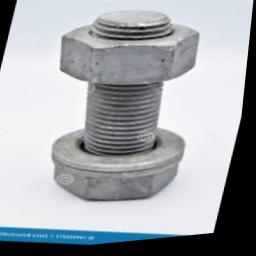Non-Corroded-Nut-and-Bolt: (54, 14, 201, 204)
Non-corroded Nut: (60, 27, 201, 88)
Non-corroded-Bolts: (54, 84, 189, 204), (93, 13, 173, 42)
